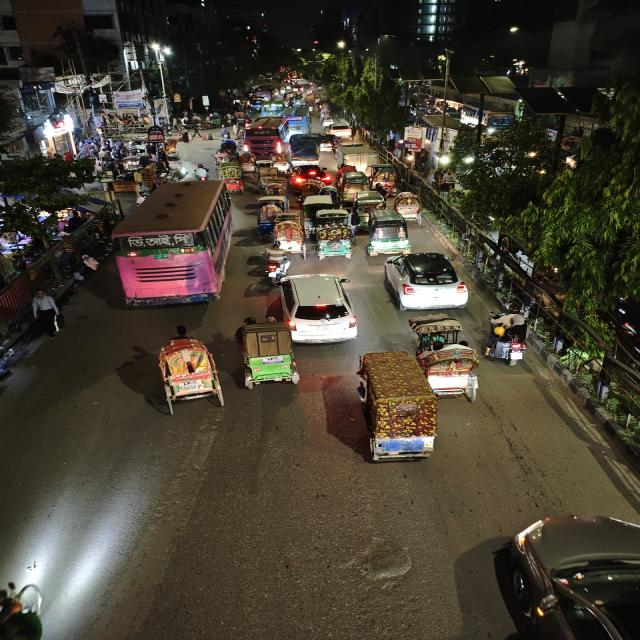bus: (110, 178, 238, 310), (242, 122, 285, 154), (285, 106, 313, 135), (259, 99, 284, 121)
car: (382, 253, 468, 309), (284, 165, 333, 188), (327, 122, 350, 139), (325, 133, 336, 154)
cng: (368, 210, 413, 254), (341, 172, 373, 201)
motorcycle: (269, 265, 357, 348), (486, 309, 536, 381), (265, 243, 289, 286), (192, 163, 210, 181)
pedestrian: (24, 288, 67, 338), (178, 128, 192, 144)
pickup_van: (285, 136, 323, 167)
rickshaw: (346, 348, 434, 468), (137, 321, 235, 415), (412, 316, 481, 410), (243, 323, 305, 396), (312, 217, 359, 260), (272, 217, 310, 256), (252, 193, 290, 232), (392, 192, 430, 226), (216, 163, 245, 194), (372, 165, 398, 192), (237, 152, 261, 174), (160, 140, 185, 158)
truck: (333, 145, 382, 170)
